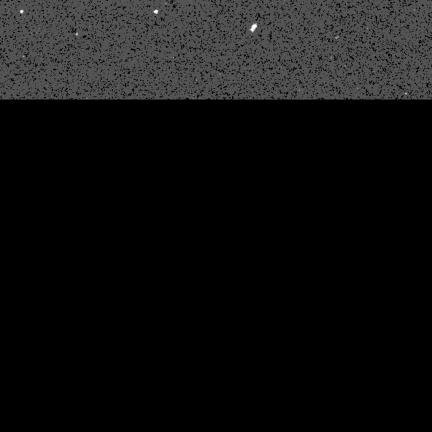blob: (20, 10, 24, 13), (154, 10, 158, 13)
